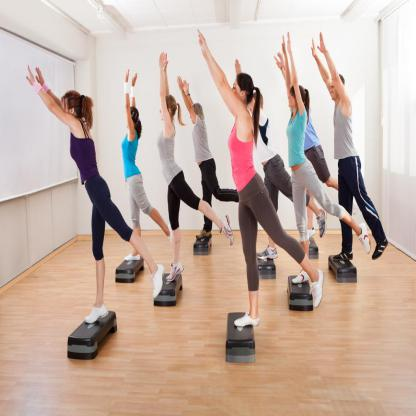face: (65, 101, 75, 126), (232, 79, 241, 104), (160, 100, 168, 120), (331, 80, 339, 99), (289, 91, 297, 108), (191, 109, 197, 124)
